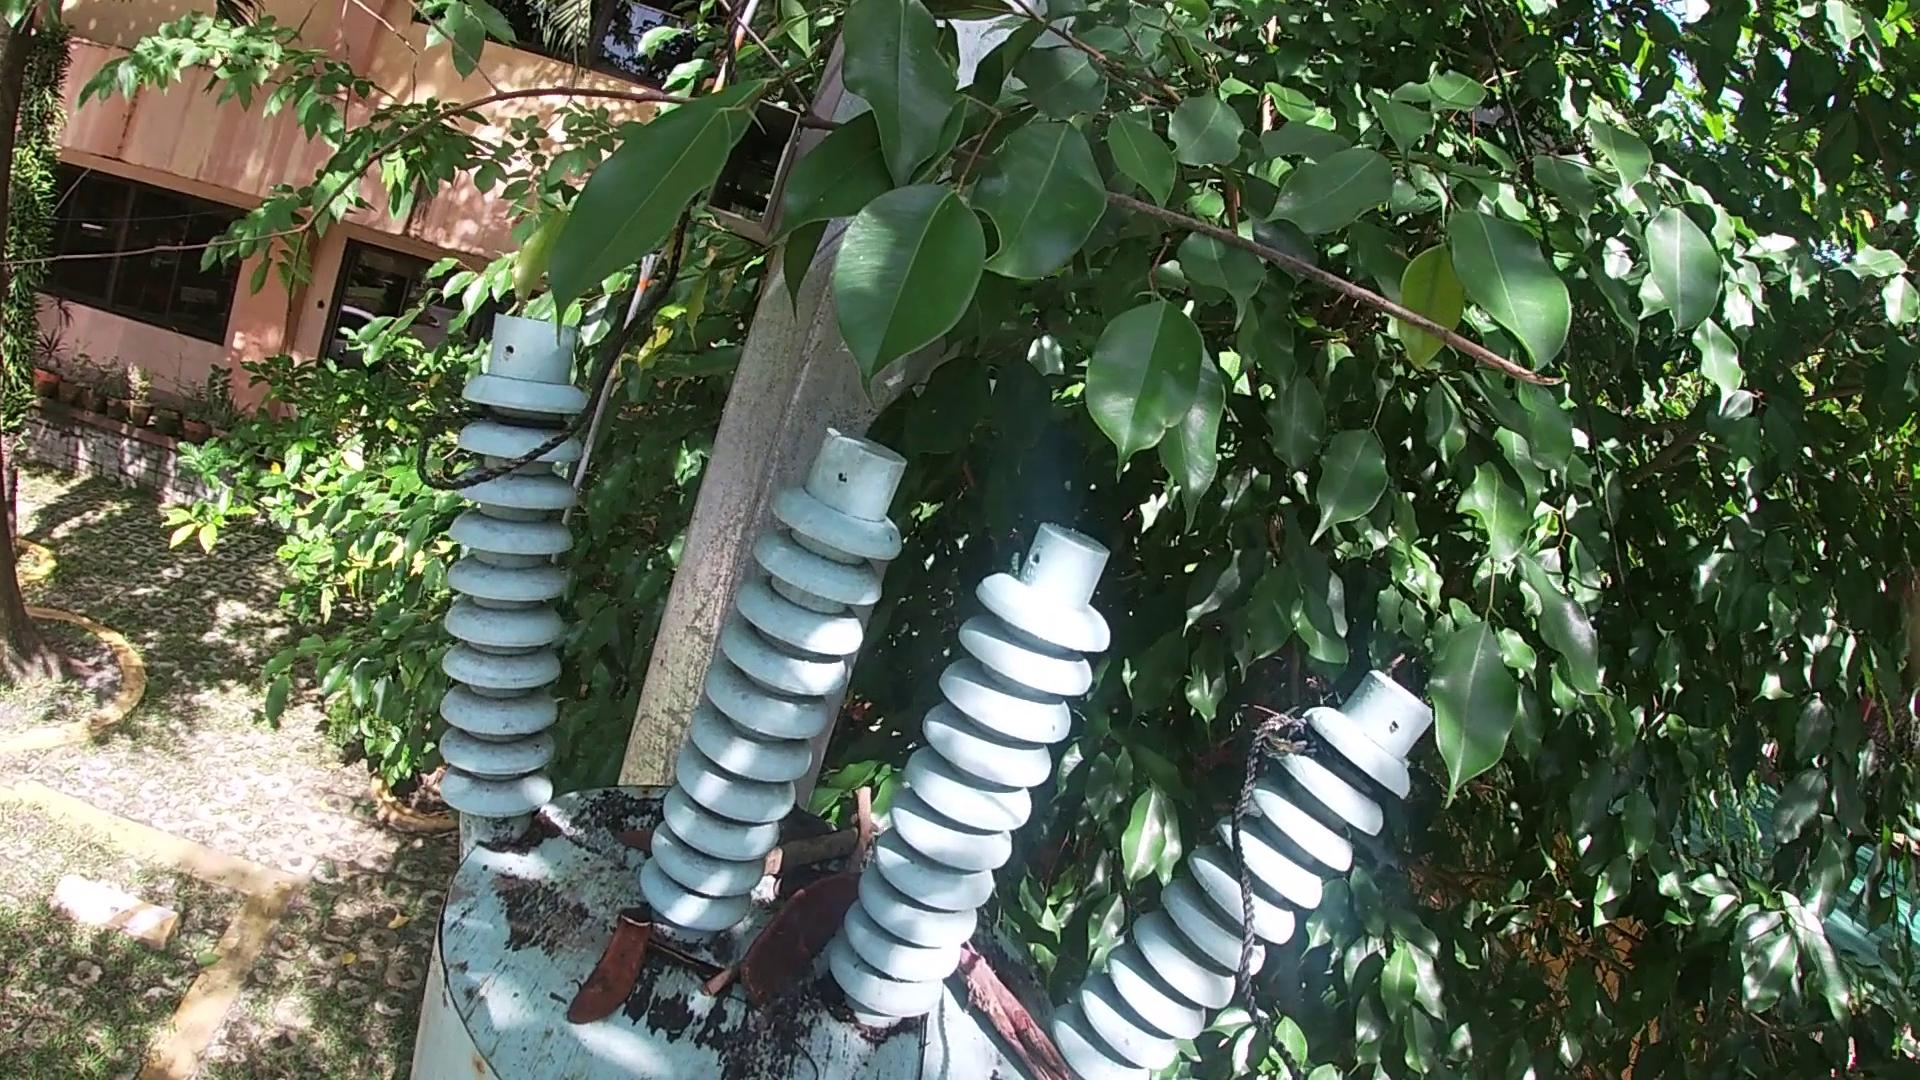leaf: (651, 938, 719, 965), (597, 819, 674, 843)
mahogany fruit: (738, 884, 851, 1035), (553, 913, 651, 1033)
tree branch: (1, 5, 1588, 404), (952, 936, 1085, 1080), (721, 1004, 824, 1077), (761, 825, 878, 881), (840, 778, 881, 891), (905, 1010, 932, 1080), (694, 968, 731, 1011)
